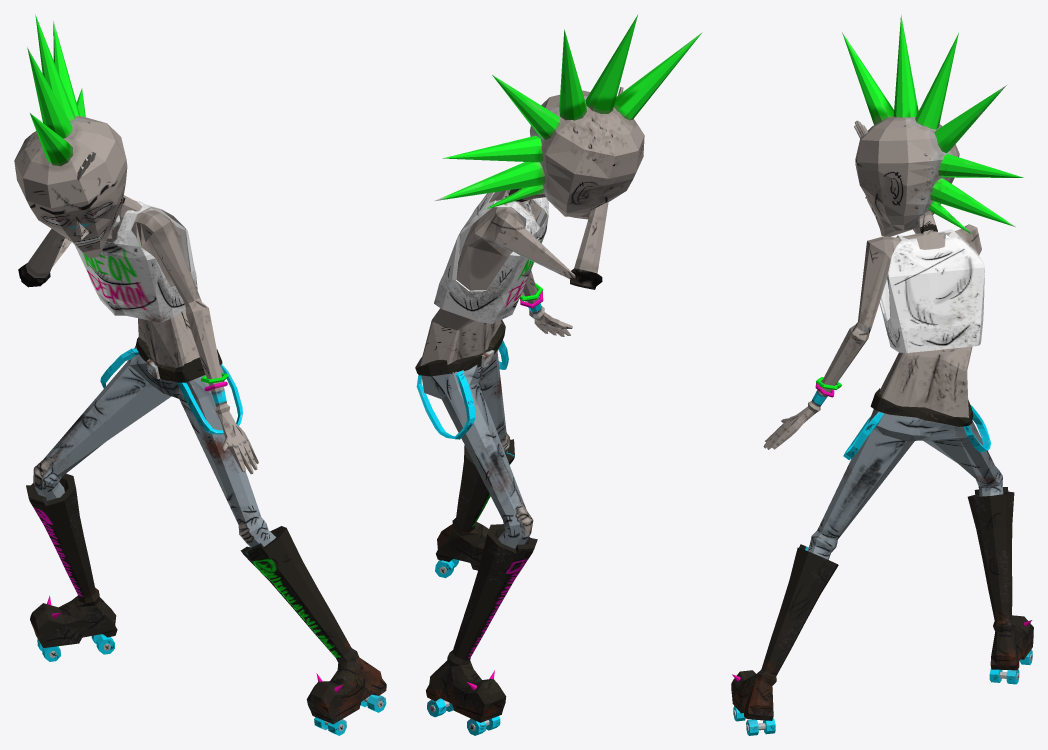
File: punkAnimation_000008.obj
The picture shows the model from 3 angles, left to right: view 1: azimuth 30°, elevation 25°; view 2: azimuth 150°, elevation 25°; view 3: azimuth 270°, elevation 25°; orthographic projection. The views are drawn at different scales.
Visible parts, largest first — view 1: Cube.004_Cube.003; view 2: Cube.004_Cube.003; view 3: Cube.004_Cube.003.
Boxes of the visible parts, bbox=[...] form: Cube.004_Cube.003: bbox=[14, 14, 386, 735]; Cube.004_Cube.003: bbox=[415, 15, 702, 735]; Cube.004_Cube.003: bbox=[731, 14, 1033, 735].
Bounding box in the file's own units: 3.17 × 6.71 × 3.01.
